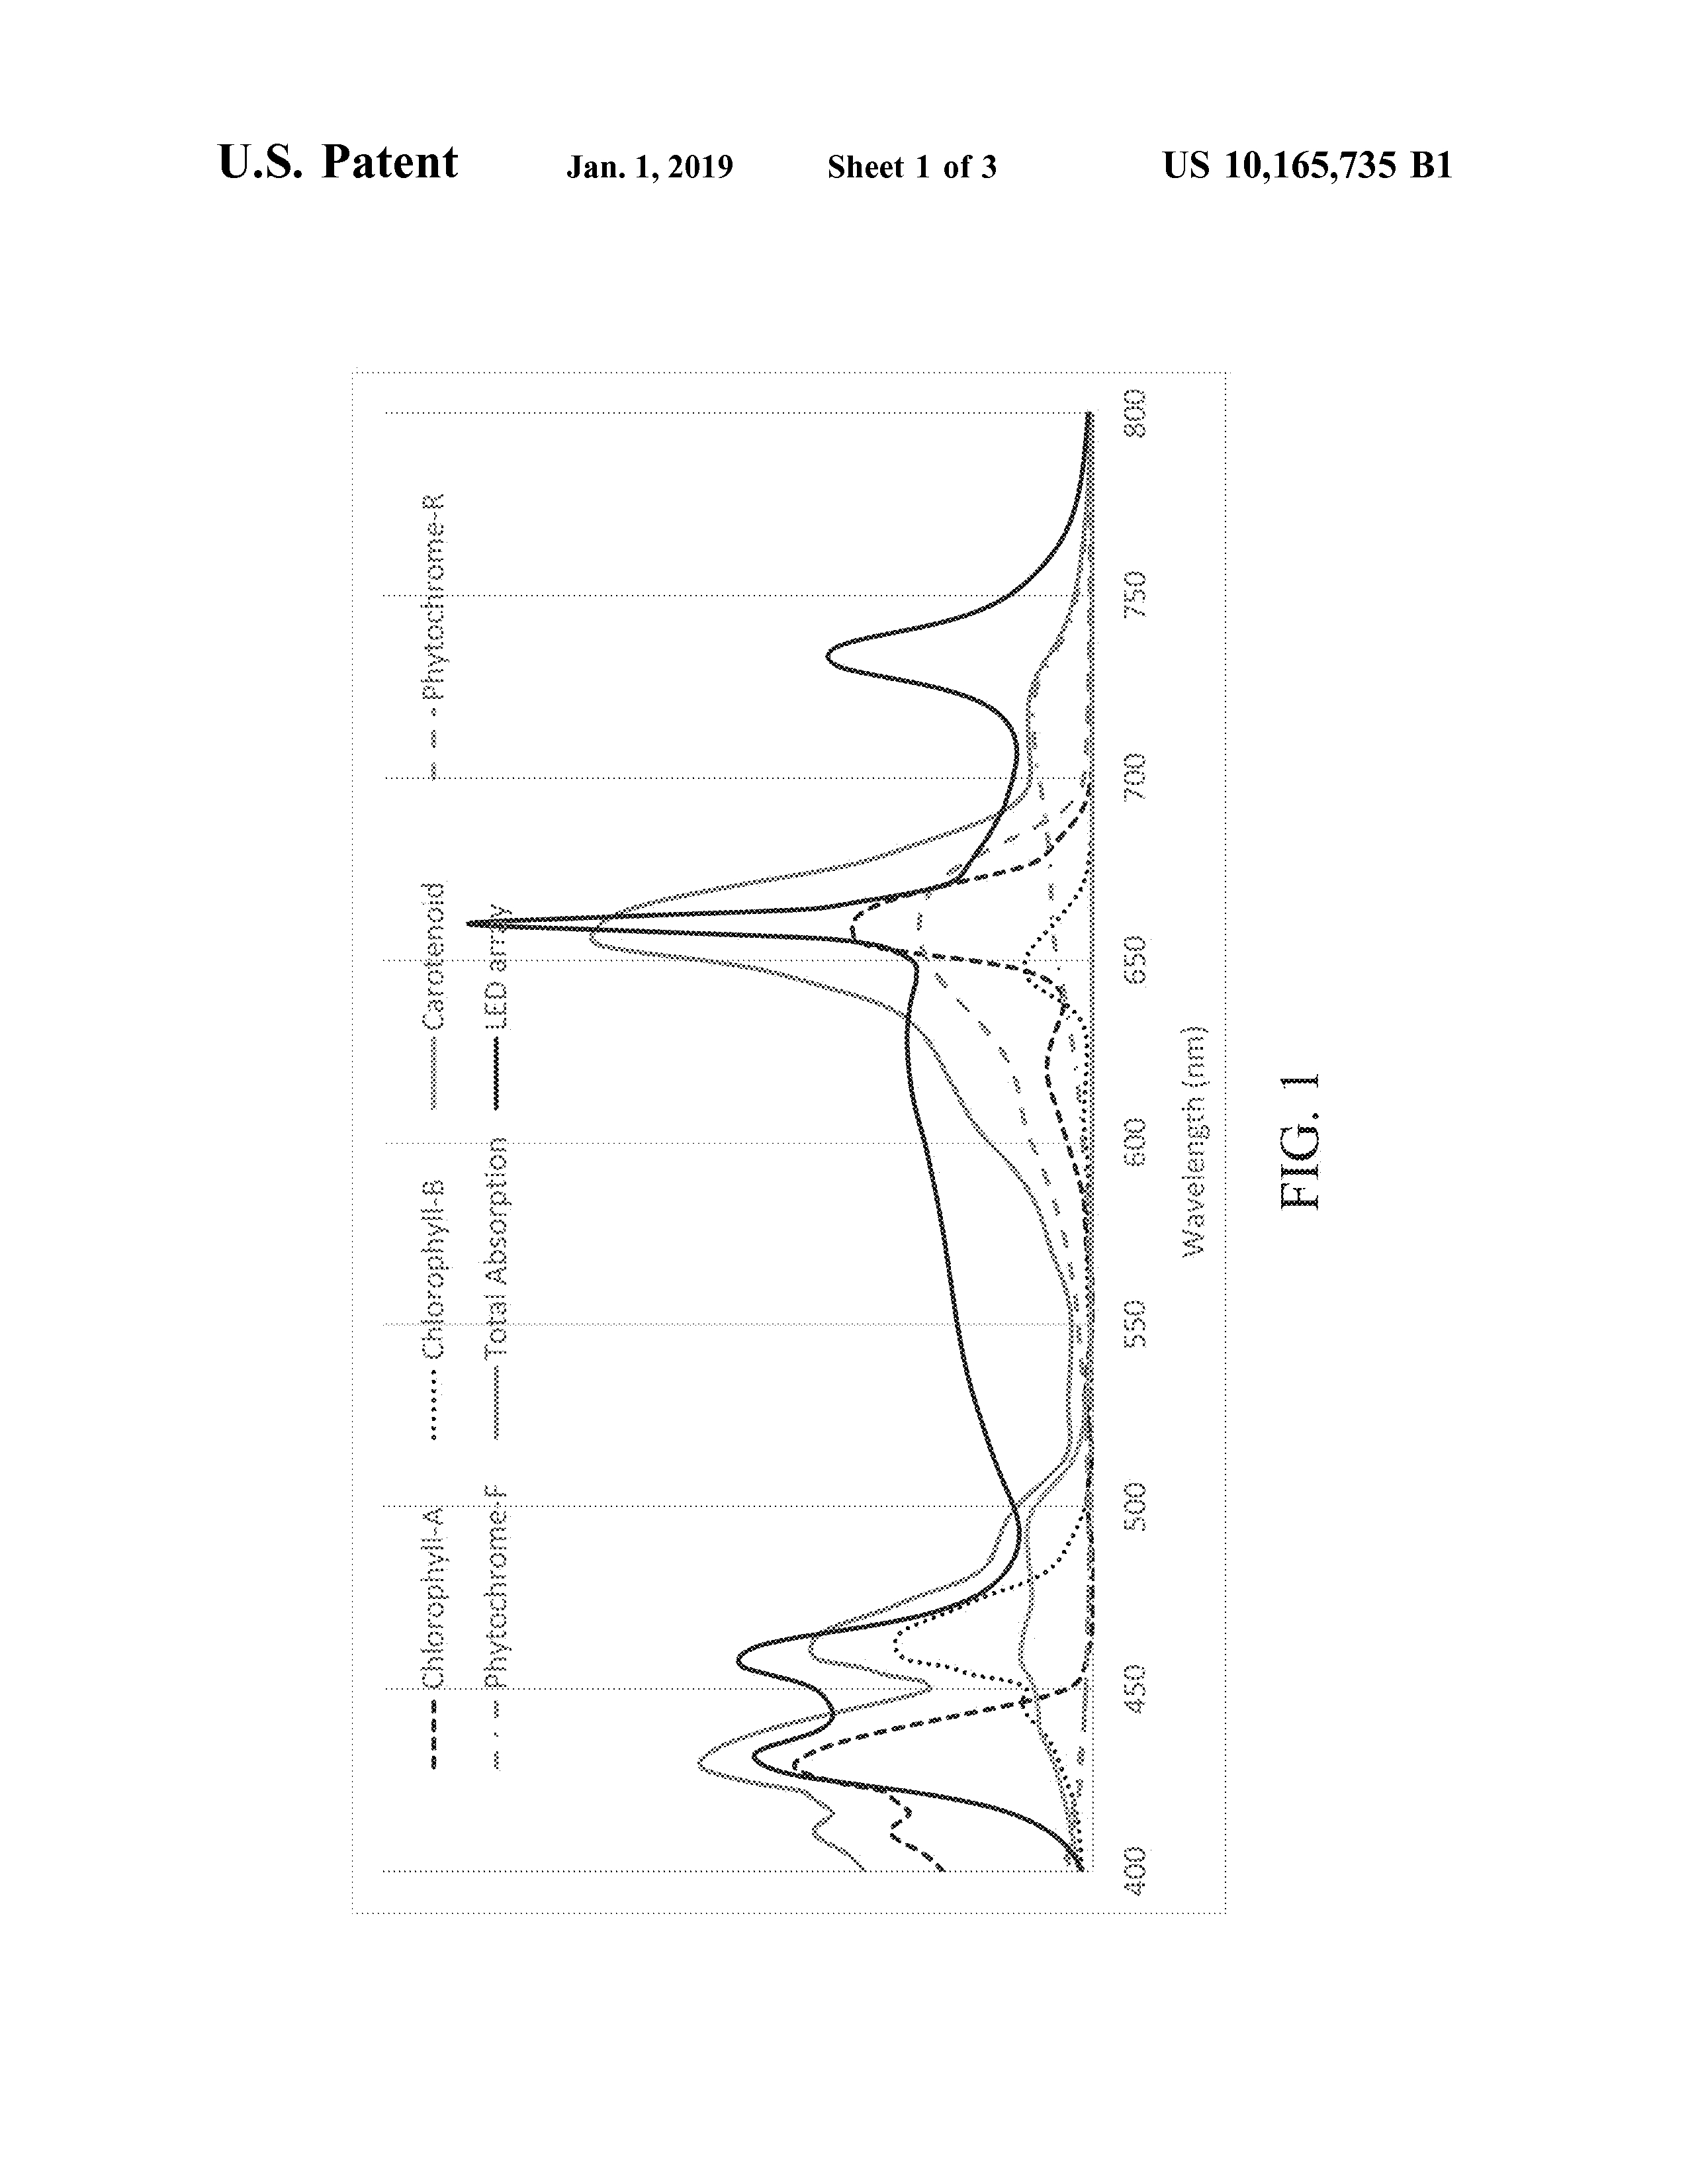patent image: (273, 325, 1389, 1982)
